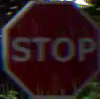Stop: (2, 2, 99, 98)
